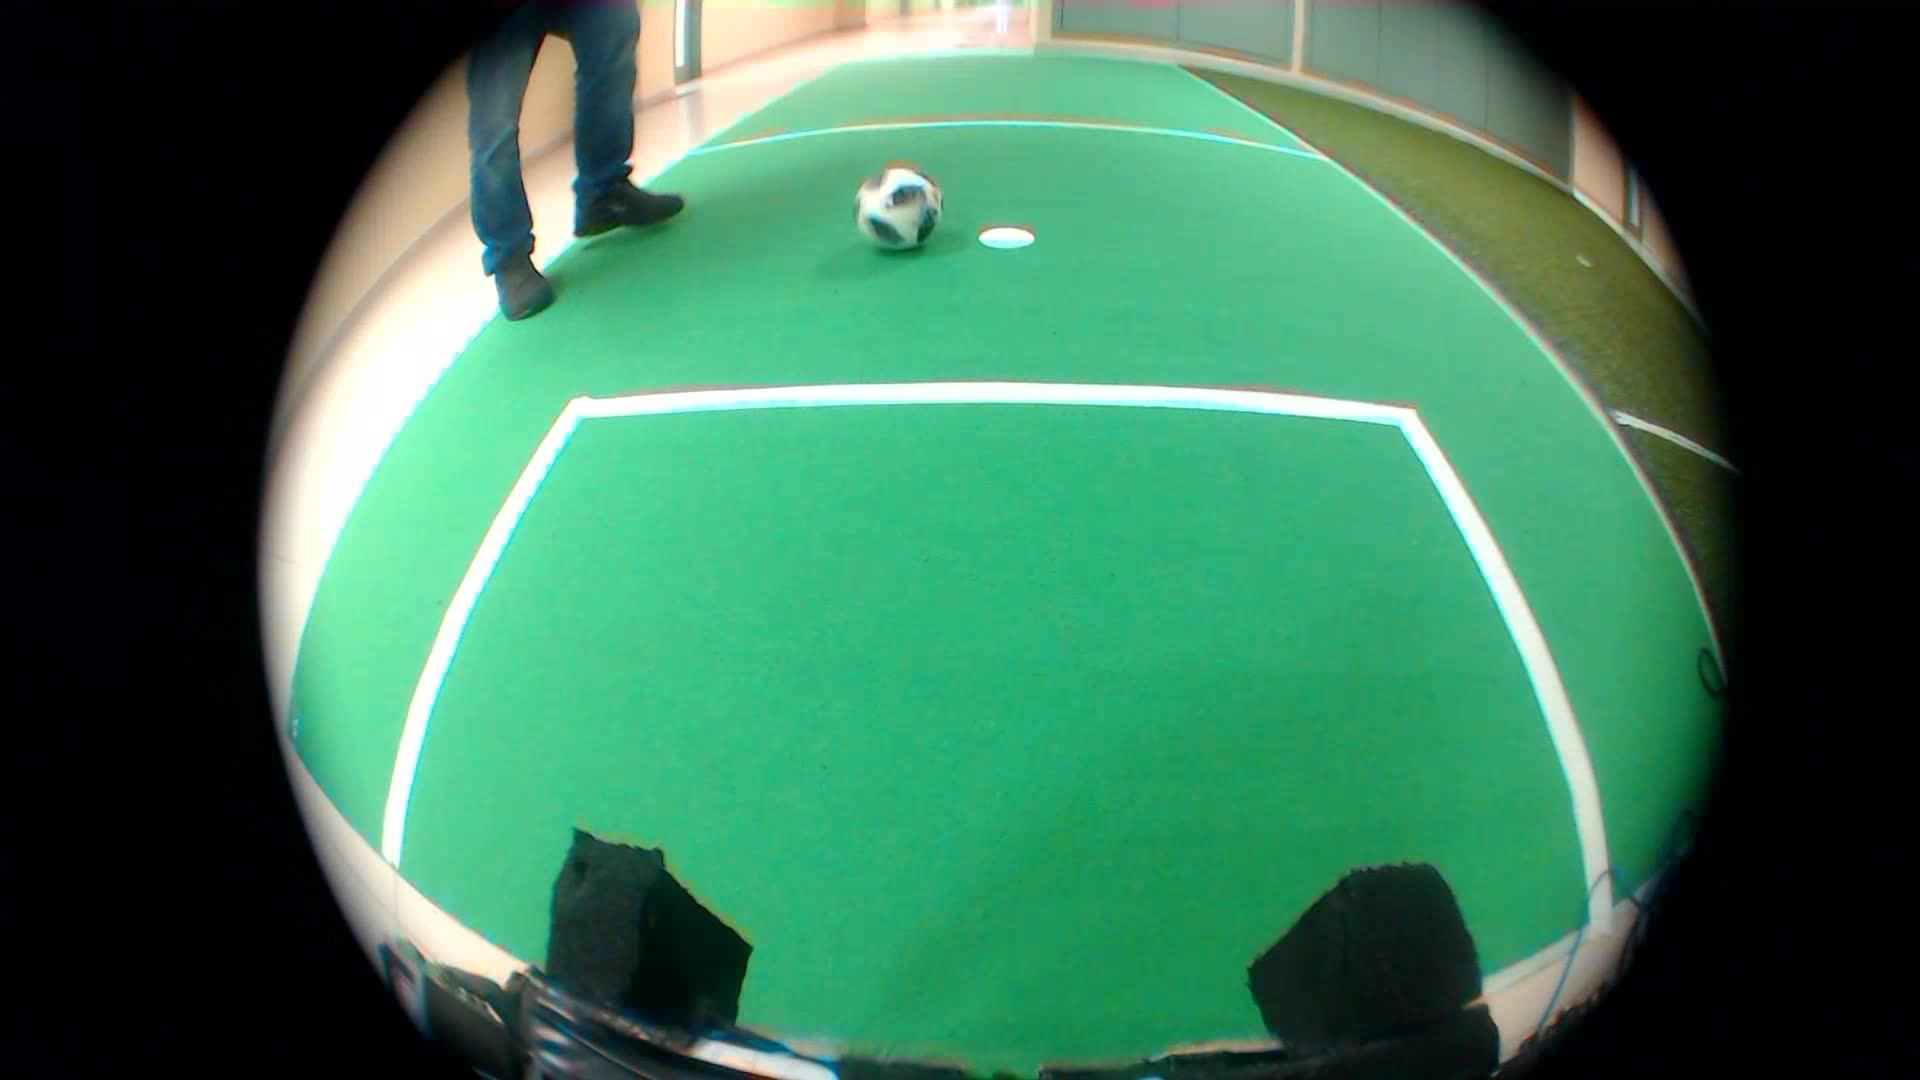ball: (844, 158, 953, 269)
